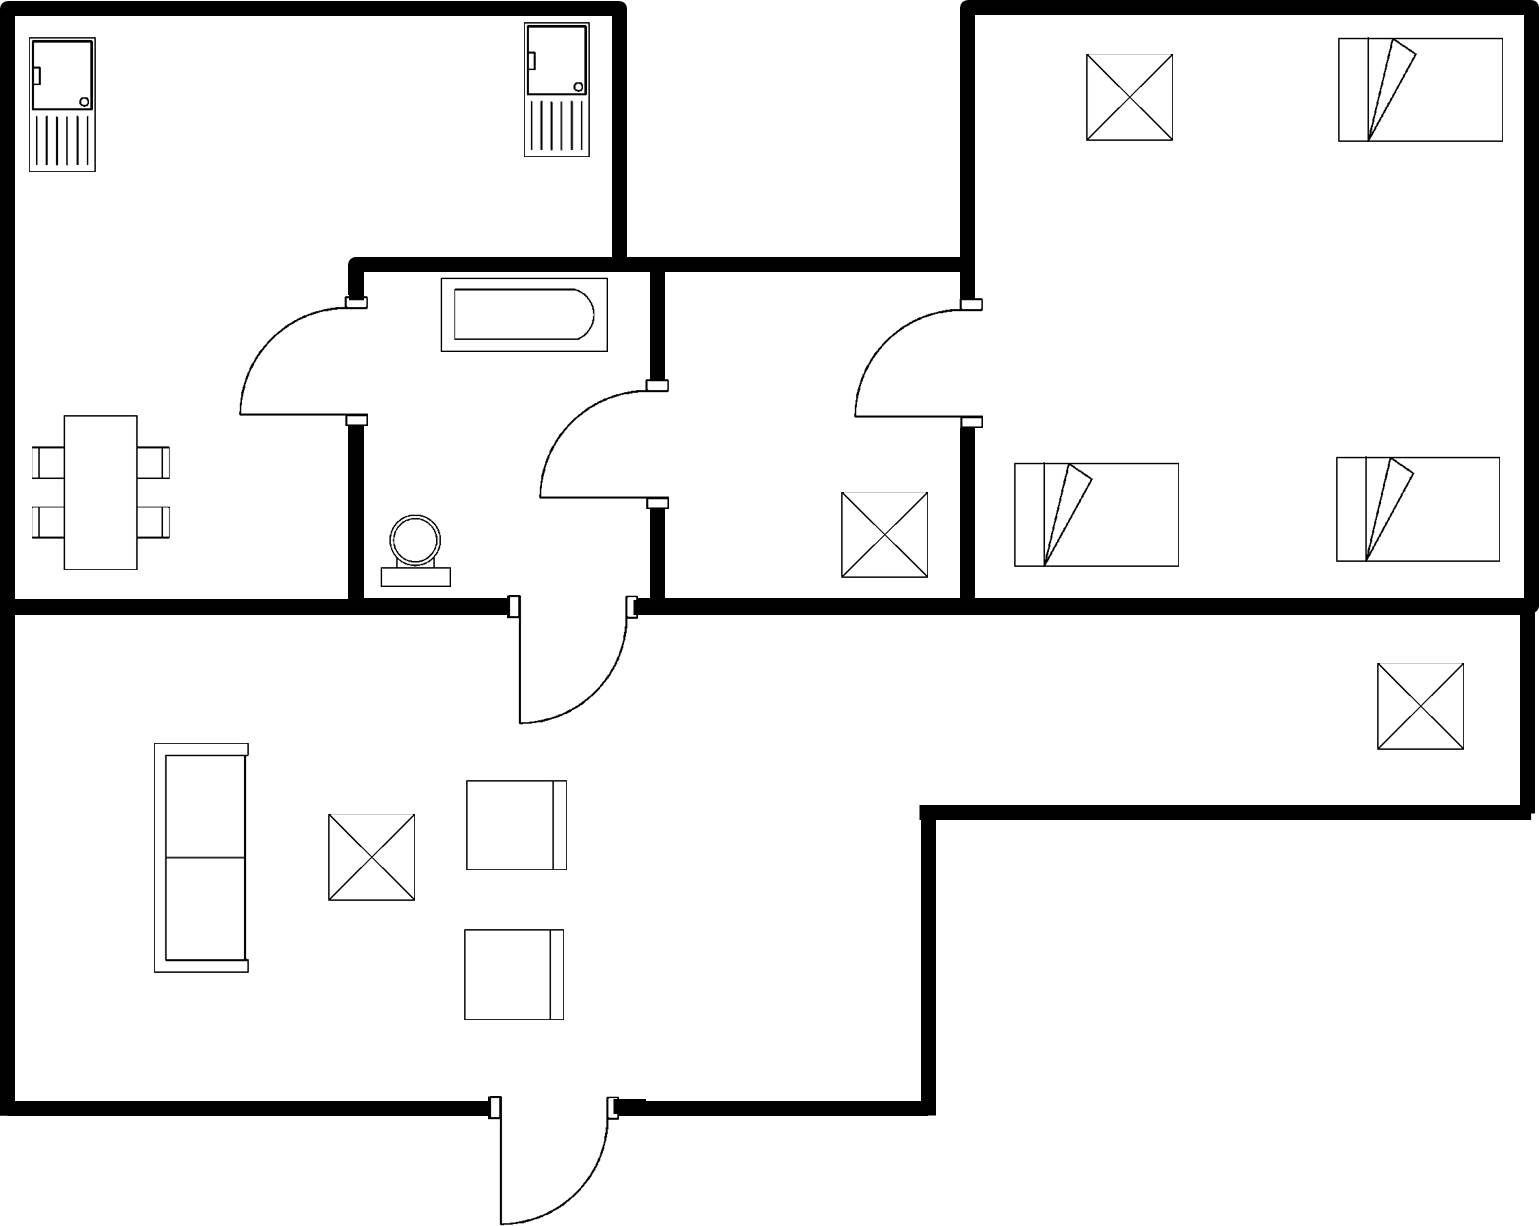bed: (1328, 447, 1513, 571), (1004, 453, 1192, 574), (1330, 30, 1511, 150)
coffee_table: (1077, 47, 1188, 153), (1367, 654, 1476, 759), (828, 481, 935, 586), (321, 806, 426, 912)
dining_table: (26, 406, 178, 579)
large_sink: (373, 506, 468, 594)
large_sofa: (147, 735, 258, 980)
sink: (21, 29, 104, 180), (520, 16, 591, 168)
small_sofa: (458, 771, 577, 878), (459, 921, 573, 1027)
tub: (429, 274, 618, 361)
